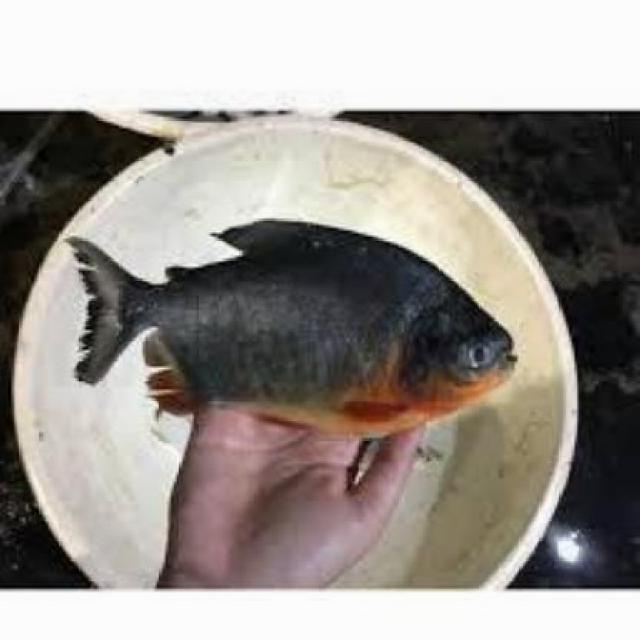ikan-pacu: (67, 218, 527, 434)
